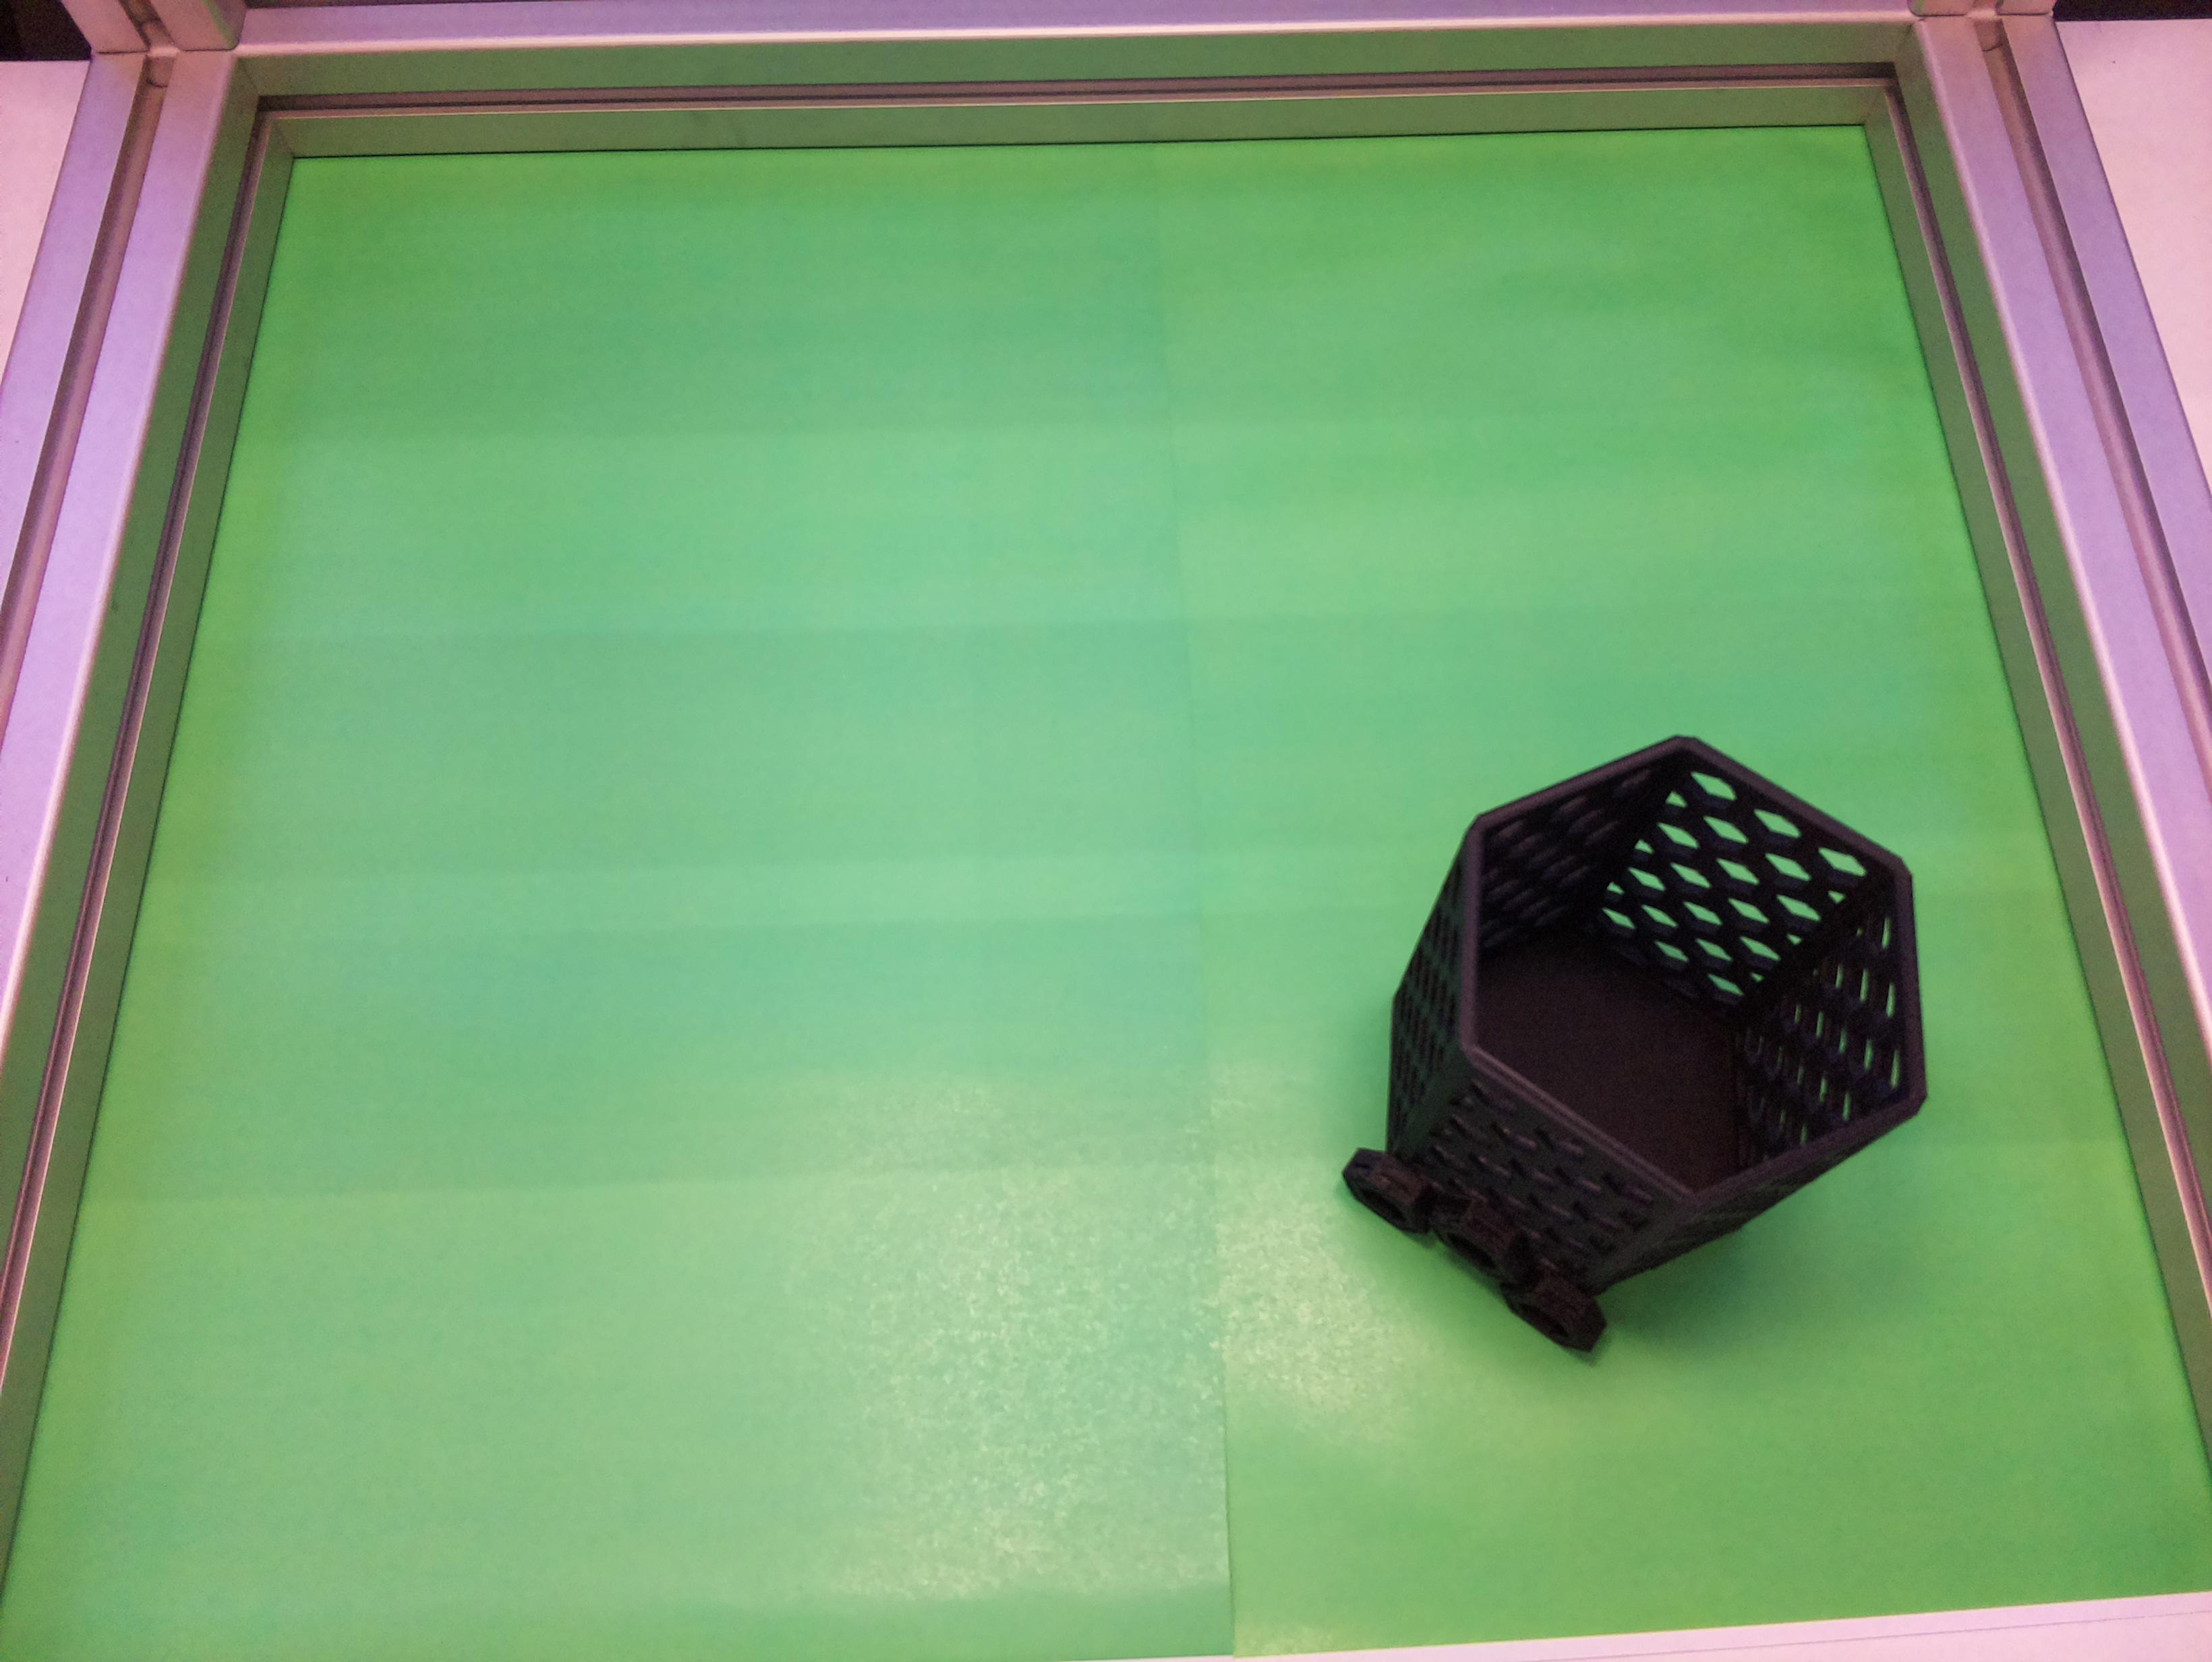cup_holder: (1264, 660, 2023, 1442)
